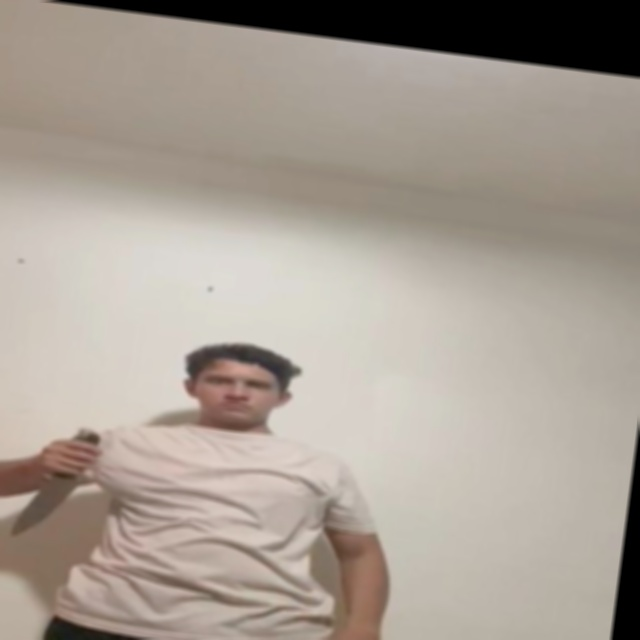Sharp-Object: (6, 469, 84, 539)
